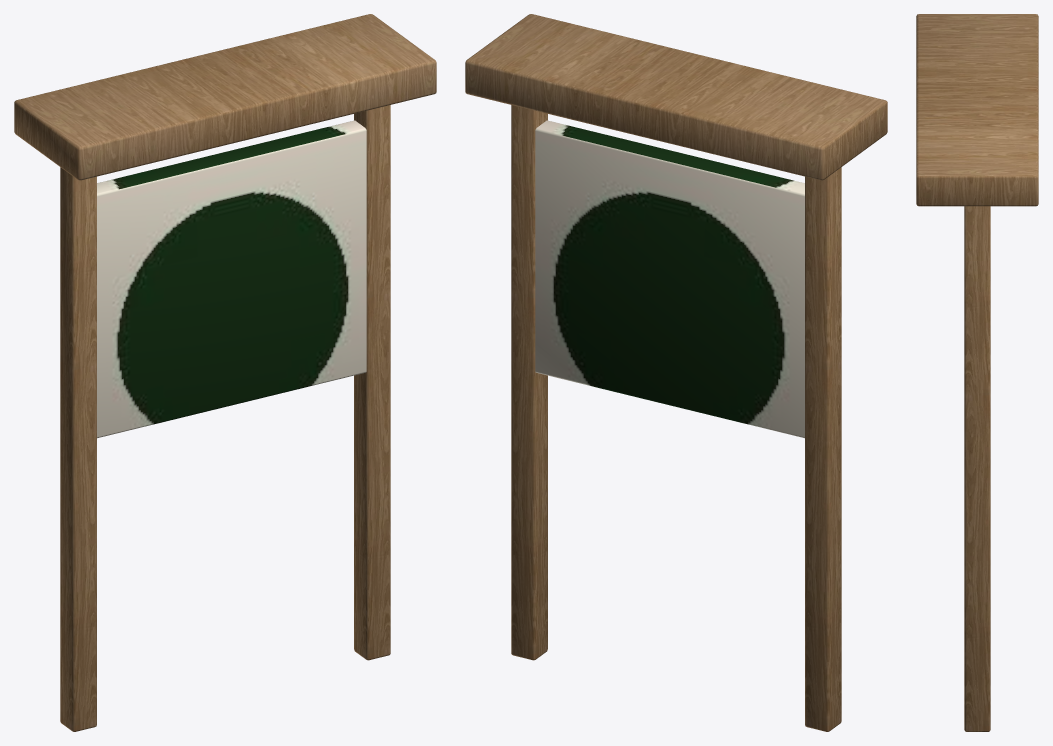
File: map-kiosk-cef46122d314.glb
The picture shows the model from 3 angles, left to right: view 1: azimuth 30°, elevation 25°; view 2: azimuth 150°, elevation 25°; view 3: azimuth 270°, elevation 25°; orthographic projection. The views are drawn at different scales.
Visible parts, largest first — view 1: Mesh_Campus_Oak, Map_Case; view 2: Mesh_Campus_Oak, Map_Case; view 3: Mesh_Campus_Oak.
Boxes of the visible parts, x1,y1,x2,y2 form: Mesh_Campus_Oak: [14, 14, 436, 731]; Map_Case: [97, 120, 366, 438]; Mesh_Campus_Oak: [465, 14, 887, 731]; Map_Case: [535, 120, 804, 438]; Mesh_Campus_Oak: [916, 14, 1038, 731].
Bounding box in the file's own units: 1.32 × 2.14 × 0.42.
Materials: 2 (2 with a texture image).
